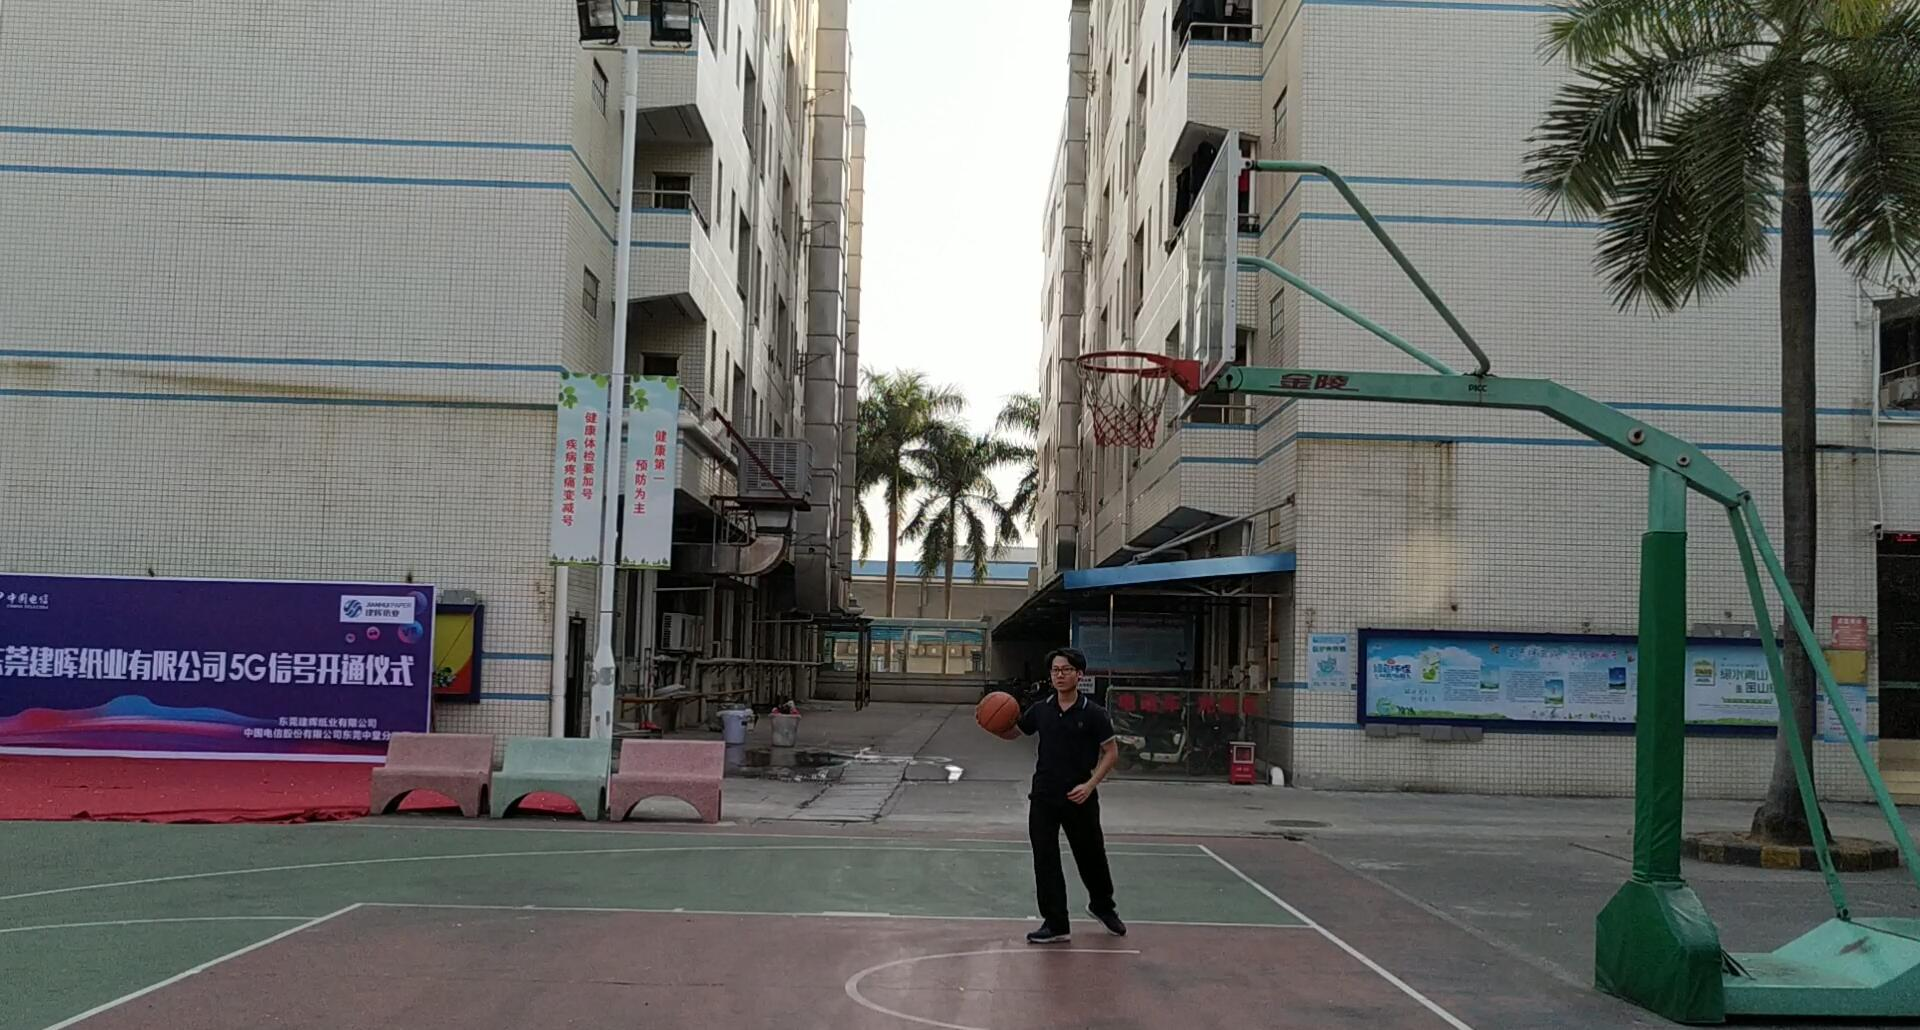basketball: (971, 685, 1023, 738)
